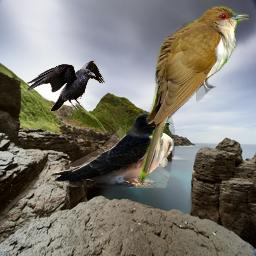Crow: (26, 60, 105, 111)
Cuckoo: (140, 4, 249, 187)
Swallow: (48, 113, 175, 188)
